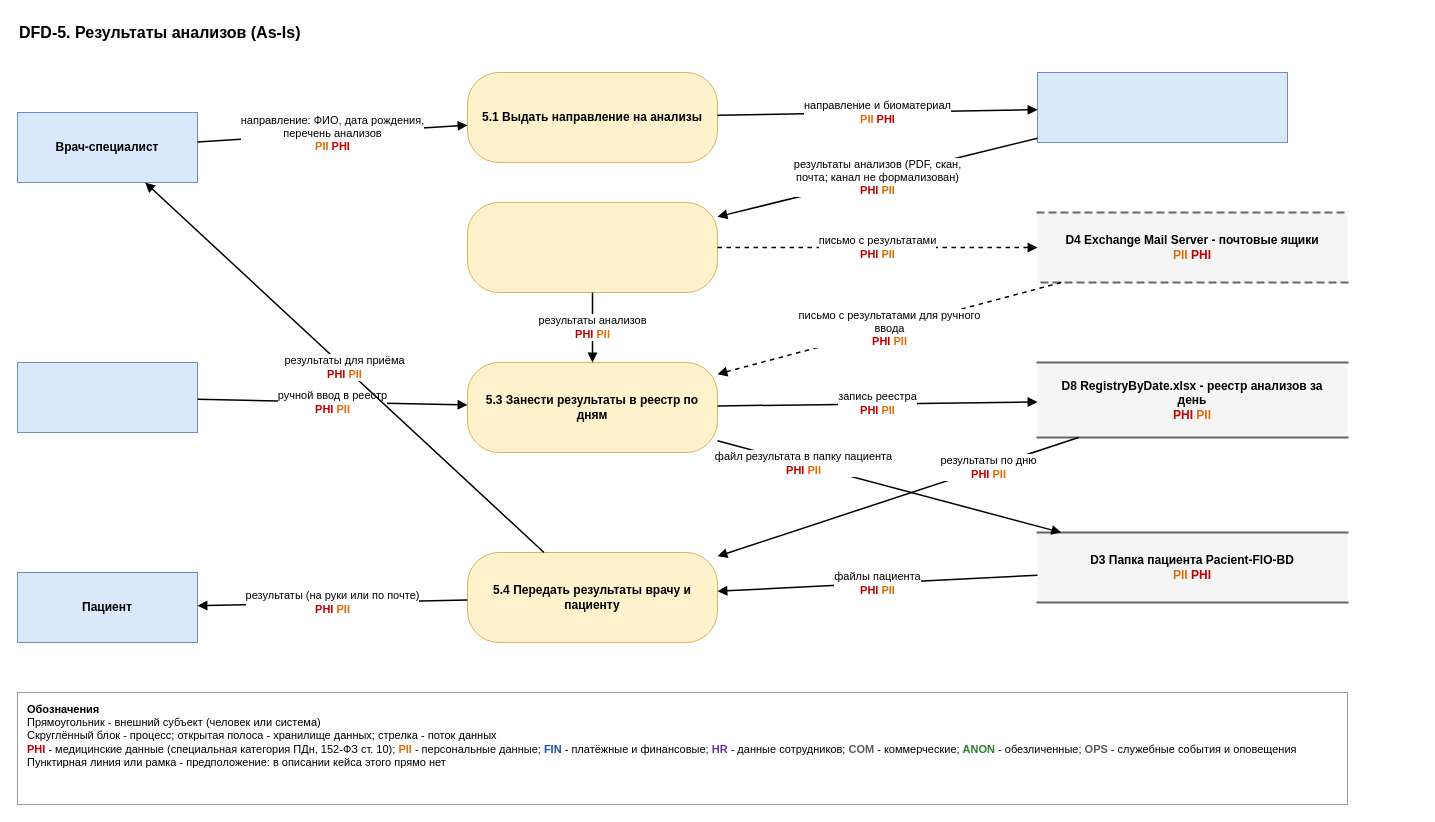
Image size: 1435x822. Some labels were removed from this diagram. The centre of each missing label's shape, as x and y in pixels:
"5.2 Получить результаты от лаборатории" belongs at (592,247).
"Администратор (ресепшен)" belongs at (107,397).
"Лаборатория (внешняя система)" belongs at (1162,107).
